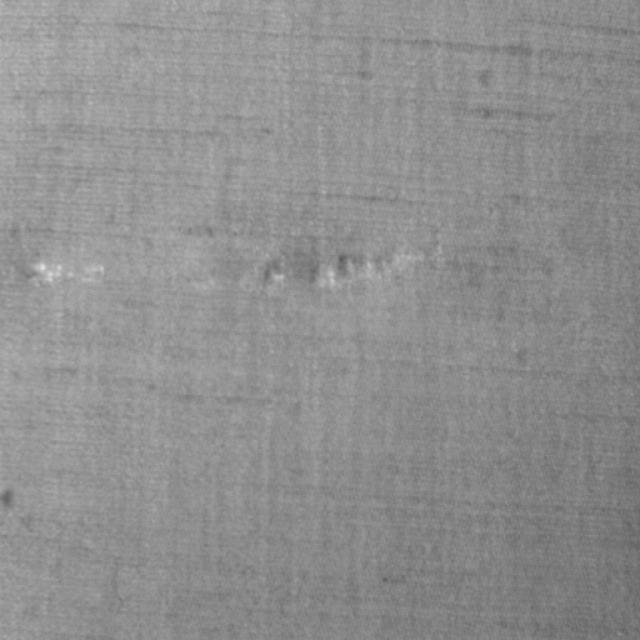thread error: (236, 236, 429, 294), (6, 248, 110, 292)
